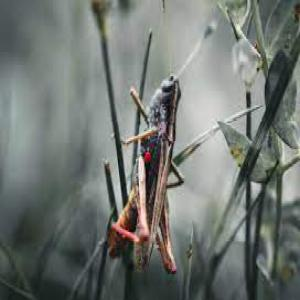locust: (107, 43, 206, 288)
